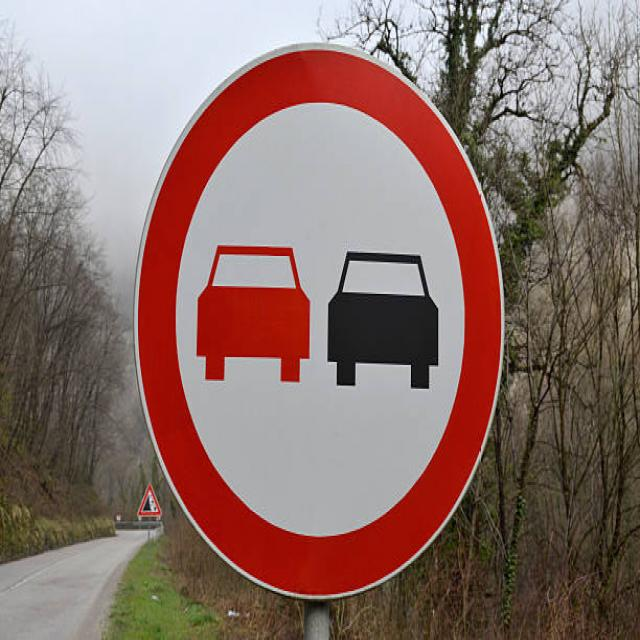no_passing: (126, 37, 511, 607)
